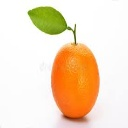orange: (49, 20, 101, 120)
